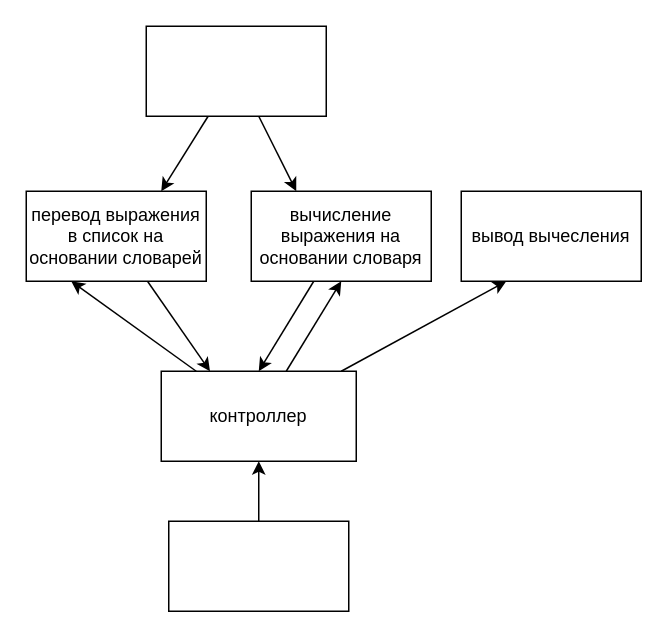
Some shapes in this 668 by 638 pixel diagram are drawn without their labels. Each missing label, with the centre of its shape:
"запуск, ввод выражения" goes at pixel 258 565.
"словари выражения и операций" goes at pixel 235 70.
